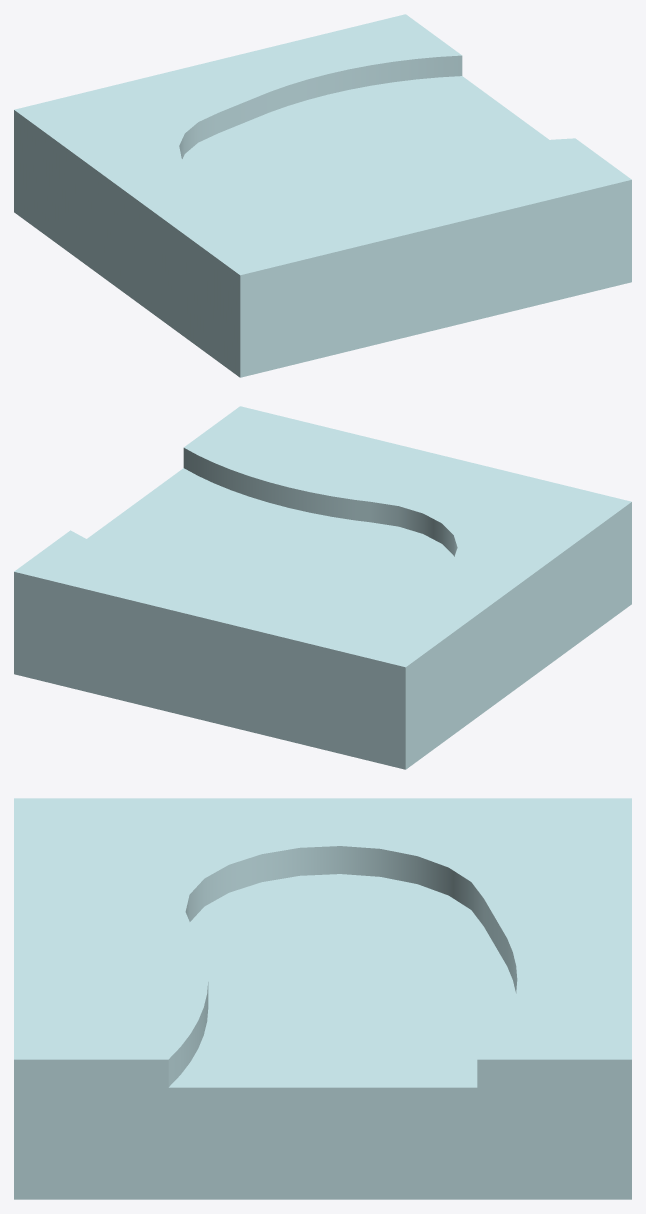
File: ground_dirtRiverEnd.fbx
The picture shows the model from 3 angles, top to bottom: view 1: azimuth 30°, elevation 25°; view 2: azimuth 150°, elevation 25°; view 3: azimuth 270°, elevation 25°; orthographic projection. The views are drawn at different scales.
Visible parts, largest first — view 1: ground_dirtRiverEnd; view 2: ground_dirtRiverEnd; view 3: ground_dirtRiverEnd.
Part boxes in pixels (x1=…): ground_dirtRiverEnd: x1=14, y1=14, x2=631, y2=377; ground_dirtRiverEnd: x1=14, y1=406, x2=631, y2=769; ground_dirtRiverEnd: x1=14, y1=798, x2=631, y2=1199.
Bounding box in the file's own units: 300 × 75 × 300.
